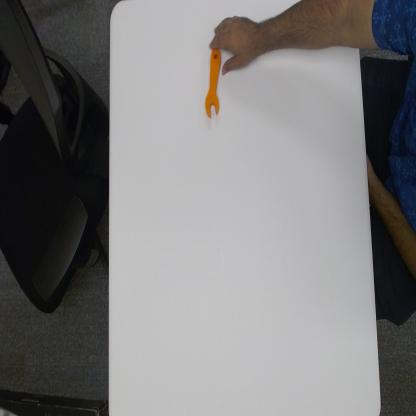Arm: (270, 0, 414, 55)
Hand: (211, 10, 269, 76)
Screwdriver: (204, 40, 224, 121)
